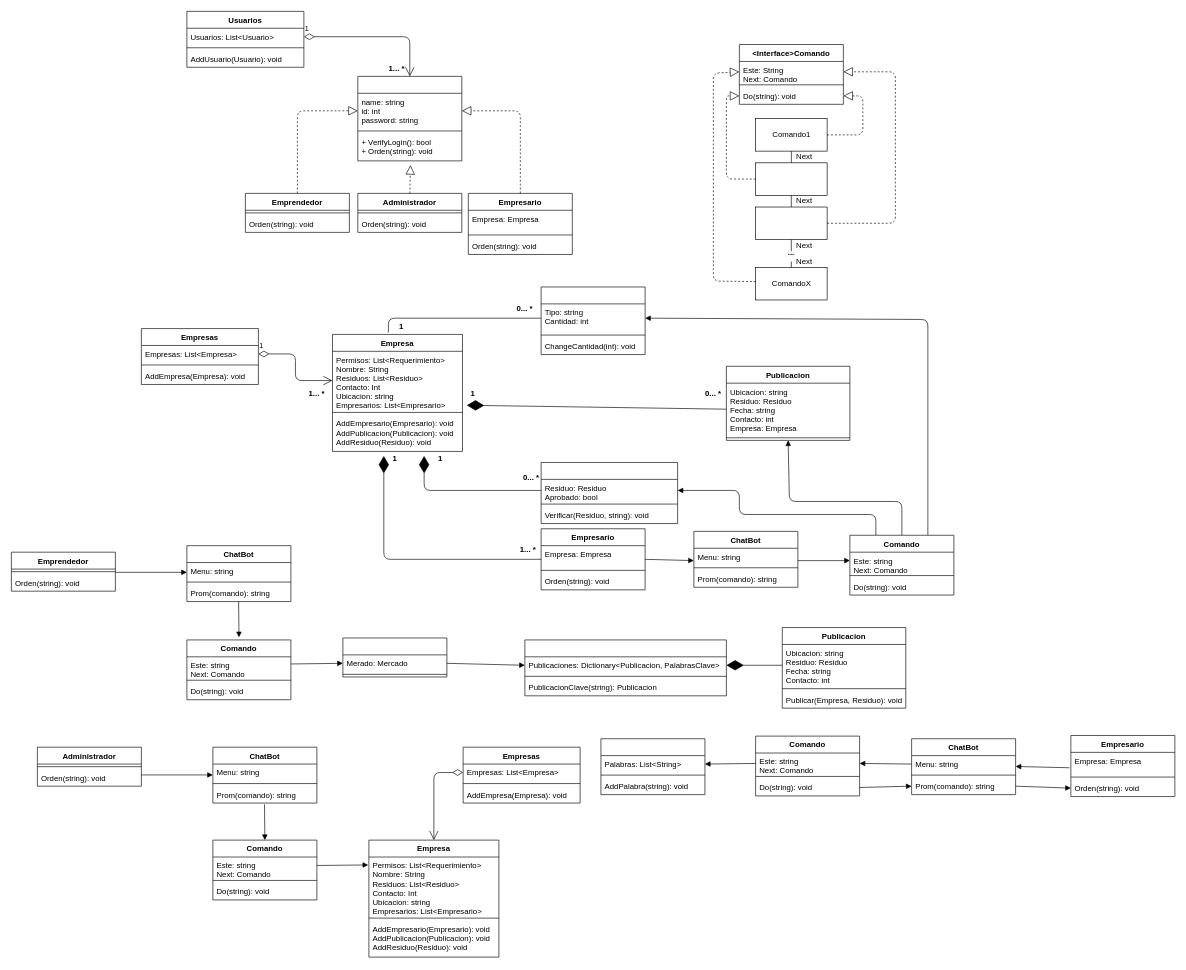
Some shapes in this 1186 by 970 pixel diagram are drawn without their labels. Here are the shapes that lost their labels. From the top down, the box of each, then its label:
(357, 76, 462, 161): Usuario
(755, 162, 827, 195): Comando2
(755, 206, 827, 240): Comando3
(540, 286, 645, 355): Residuo
(540, 462, 678, 524): Requerimiento
(342, 637, 447, 677): Buscador
(524, 639, 726, 696): Mercado
(600, 738, 705, 795): PalabrasClave
